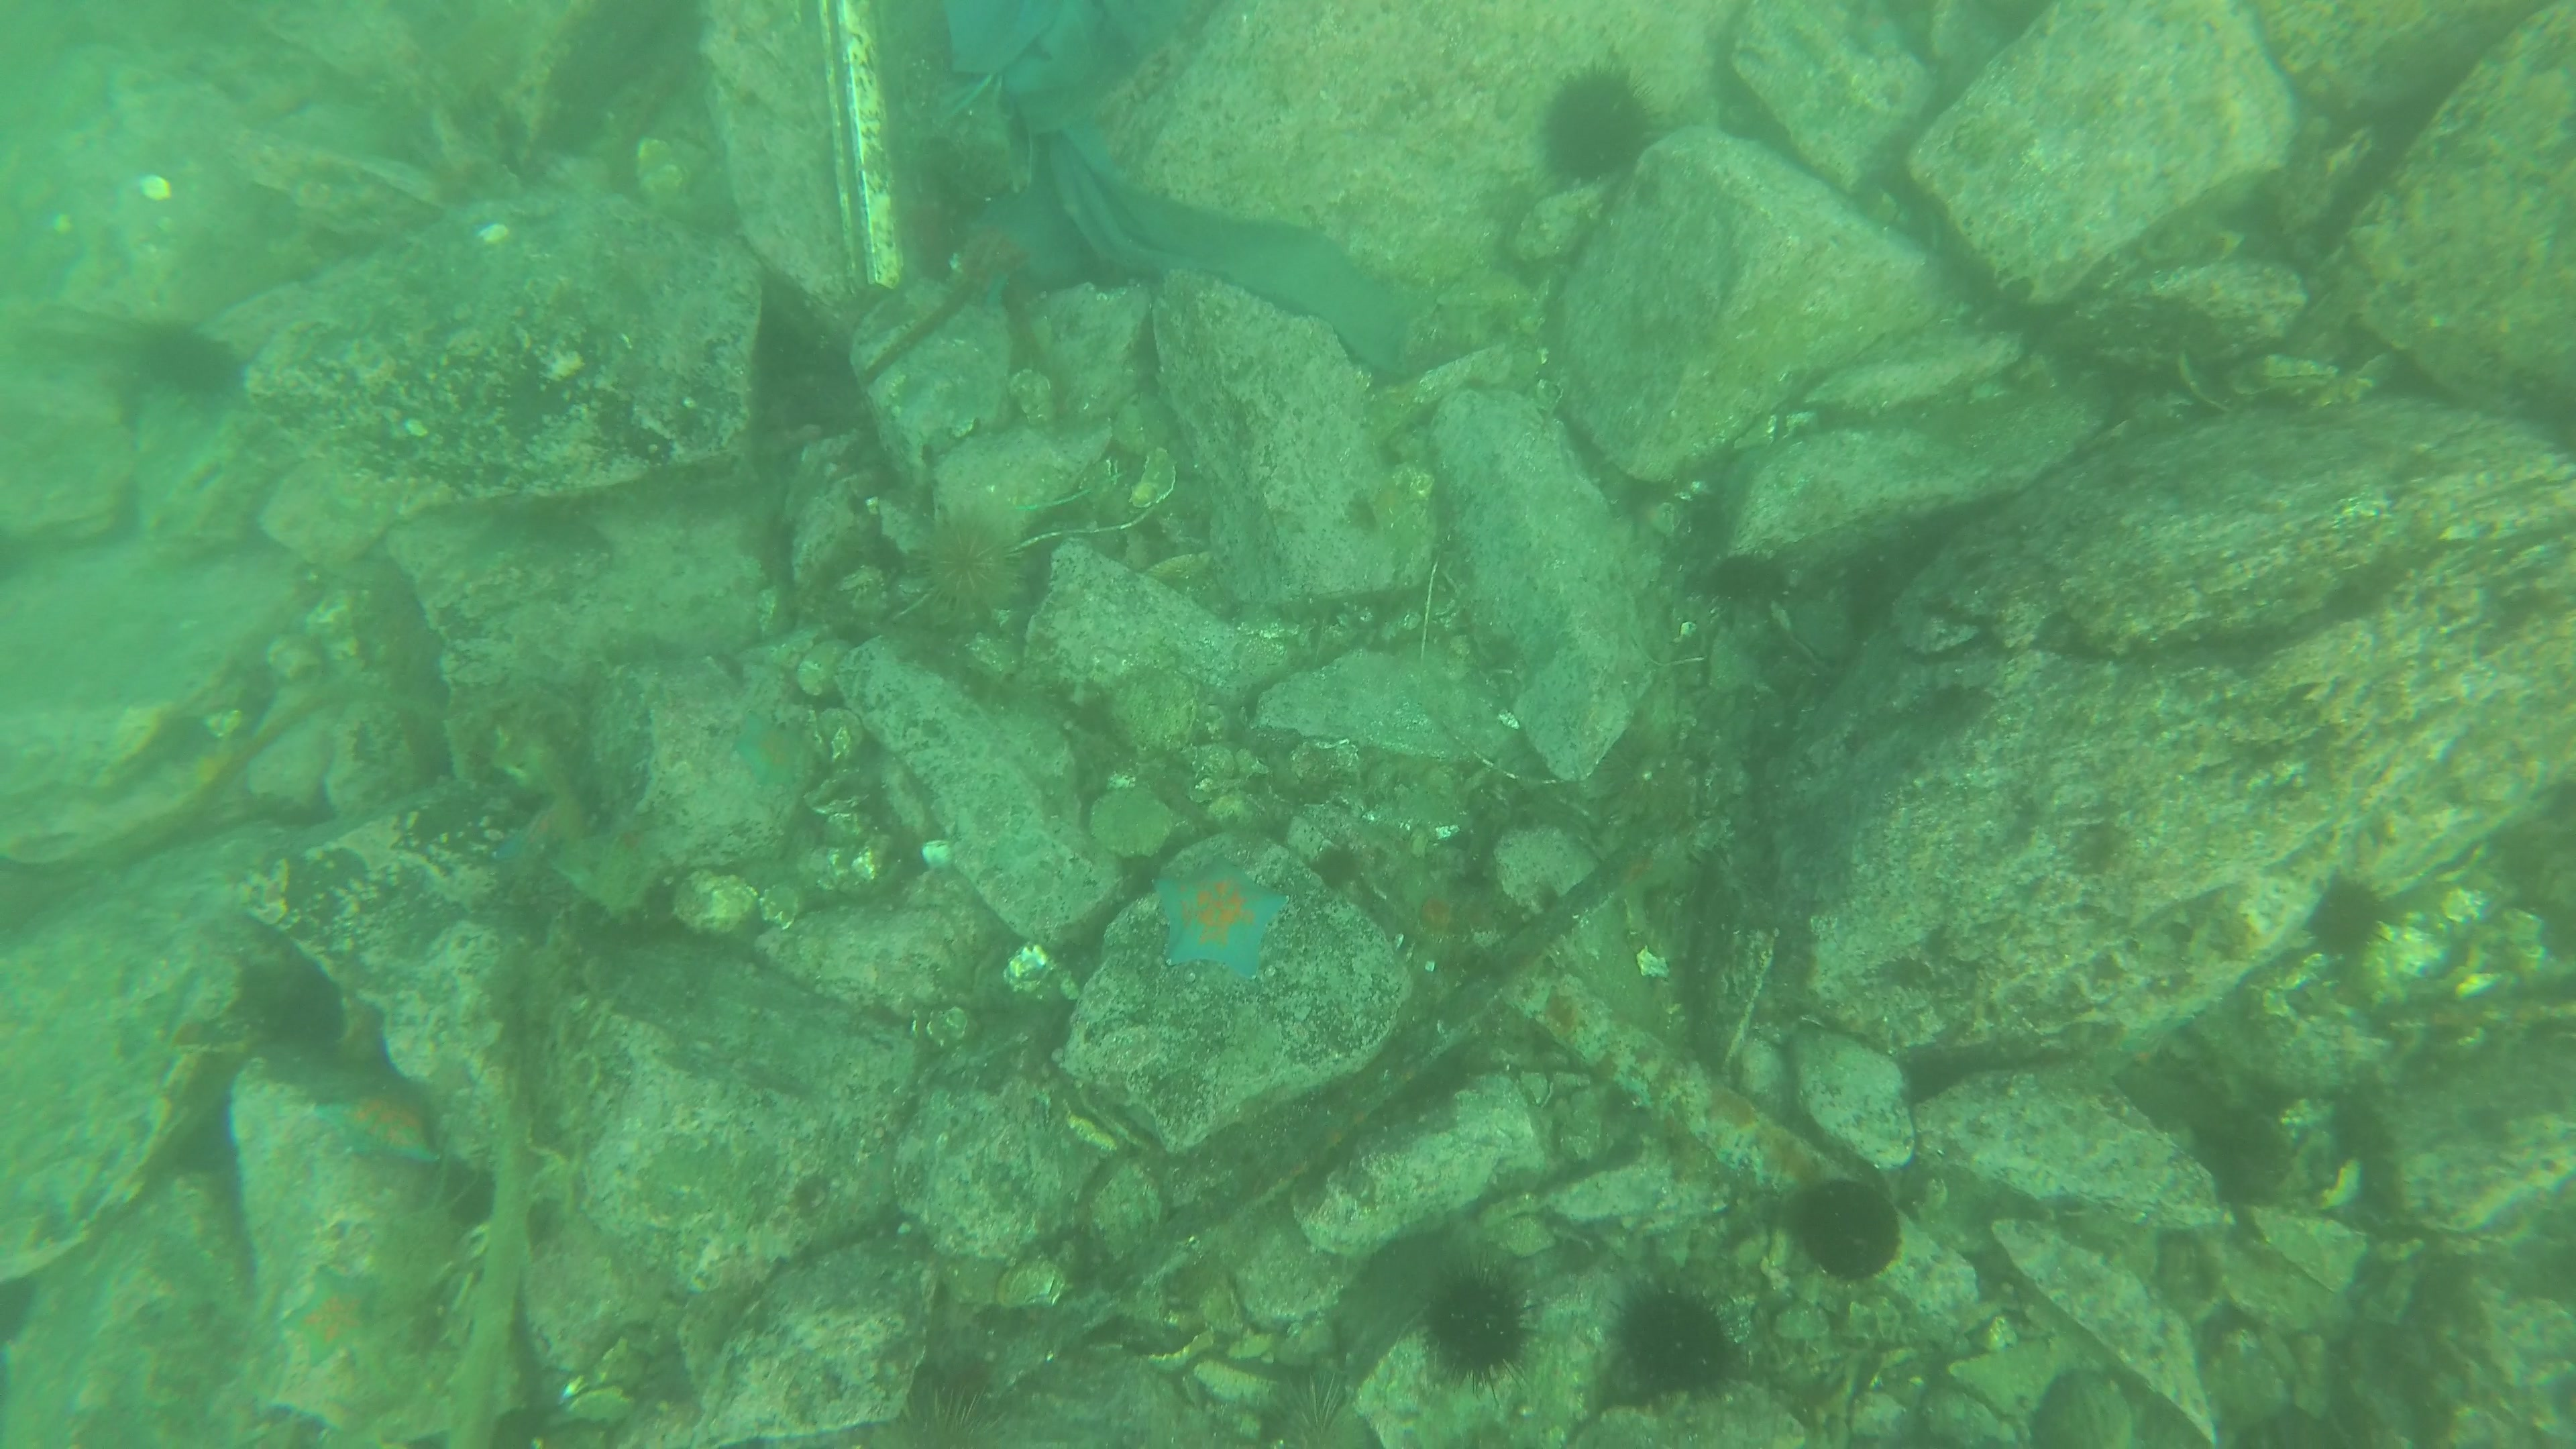echinus: (1412, 1261, 1553, 1401), (1596, 1269, 1741, 1405), (1545, 50, 1679, 188), (1792, 1169, 1918, 1297), (902, 501, 1030, 626), (127, 310, 248, 405), (2296, 865, 2387, 957), (1693, 541, 1782, 612)
starfish: (1157, 840, 1299, 985), (283, 1260, 391, 1375), (308, 1081, 448, 1169), (724, 709, 810, 794)
